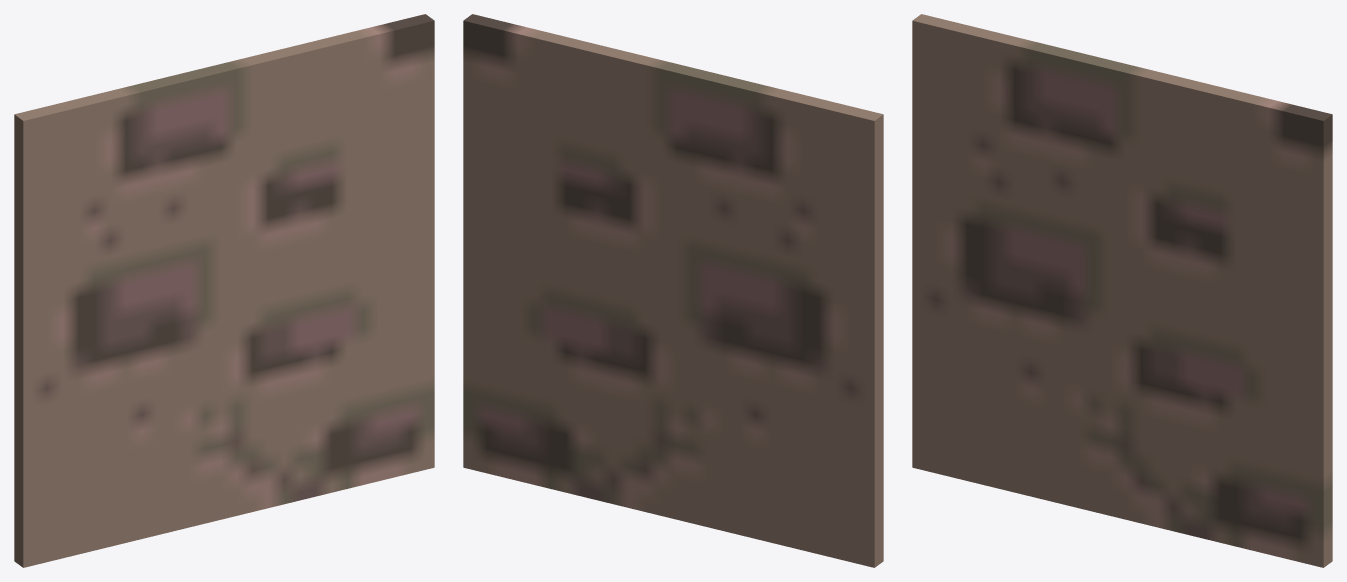
Rendered from Tile_Small.fbx.
3 views of the same model, side by side, from view 1: azimuth 30°, elevation 25°; view 2: azimuth 150°, elevation 25°; view 3: azimuth 330°, elevation 25° (orthographic).
Visible parts, largest first — view 1: Tile_Small; view 2: Tile_Small; view 3: Tile_Small.
Boxes of the visible parts, box(x1,y1,x2,y2) form: Tile_Small: box(14, 14, 434, 567); Tile_Small: box(463, 14, 883, 567); Tile_Small: box(912, 14, 1332, 567).
Size of the model in its own units: 130 by 135 by 5.
